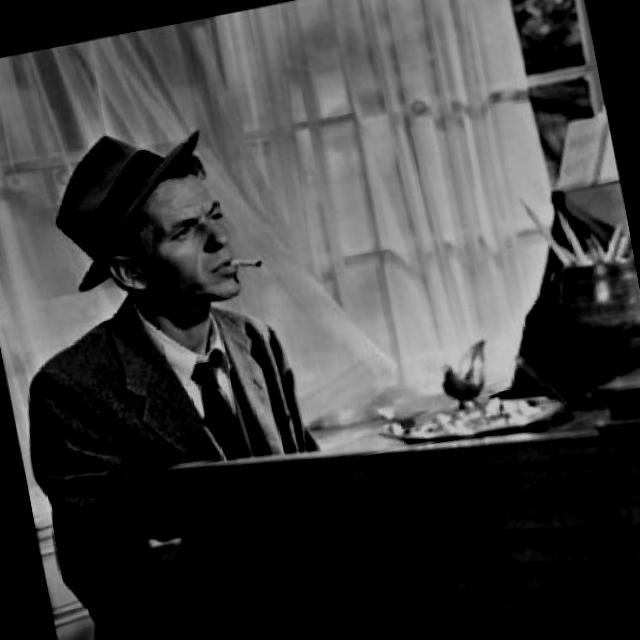cigarette: (222, 250, 263, 273)
